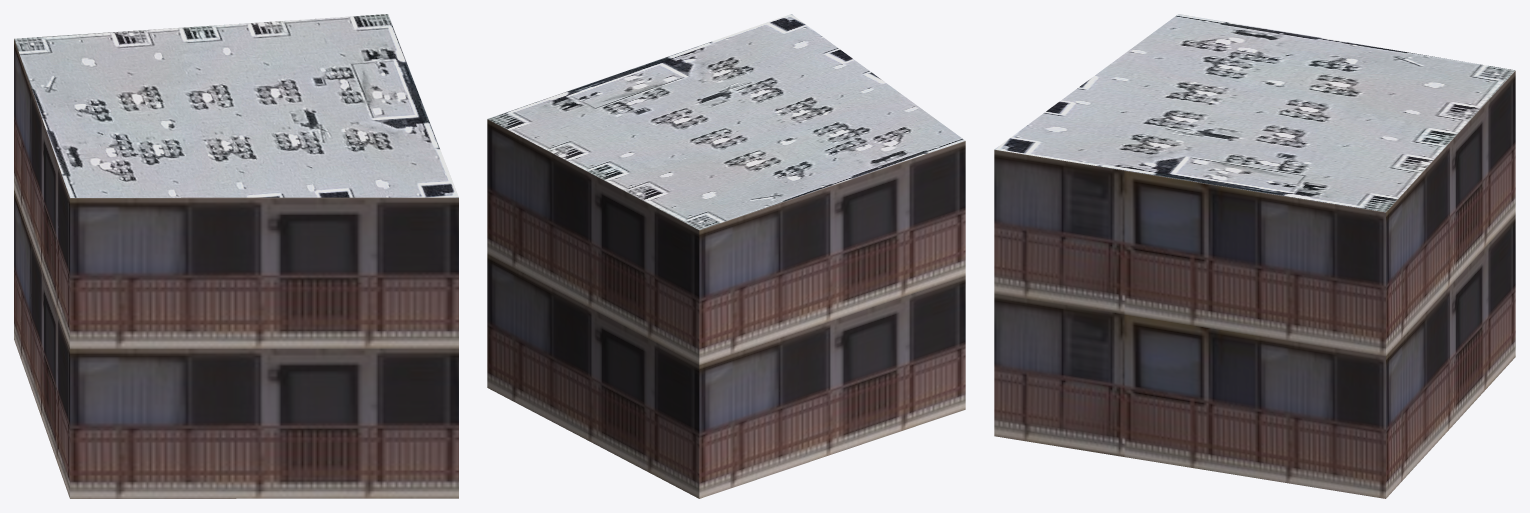
Rendered from ResTex__2416.fbx.
The picture shows the model from 3 angles, left to right: view 1: azimuth 30°, elevation 25°; view 2: azimuth 150°, elevation 25°; view 3: azimuth 270°, elevation 25°; orthographic projection. The views are drawn at different scales.
Visible parts, largest first — view 1: CityEngineMaterial_6_m, CityEngineMaterial_4_m; view 2: CityEngineMaterial_6_m, CityEngineMaterial_4_m; view 3: CityEngineMaterial_6_m, CityEngineMaterial_4_m.
Boxes of the visible parts, bbox=[...] form: CityEngineMaterial_6_m: bbox=[14, 39, 458, 498]; CityEngineMaterial_4_m: bbox=[14, 14, 458, 197]; CityEngineMaterial_6_m: bbox=[487, 119, 965, 498]; CityEngineMaterial_4_m: bbox=[487, 14, 965, 229]; CityEngineMaterial_6_m: bbox=[994, 71, 1515, 498]; CityEngineMaterial_4_m: bbox=[994, 14, 1515, 212].
Bounding box in the file's own units: 8.91 × 6 × 9.9.
2 materials, 2 textured.
